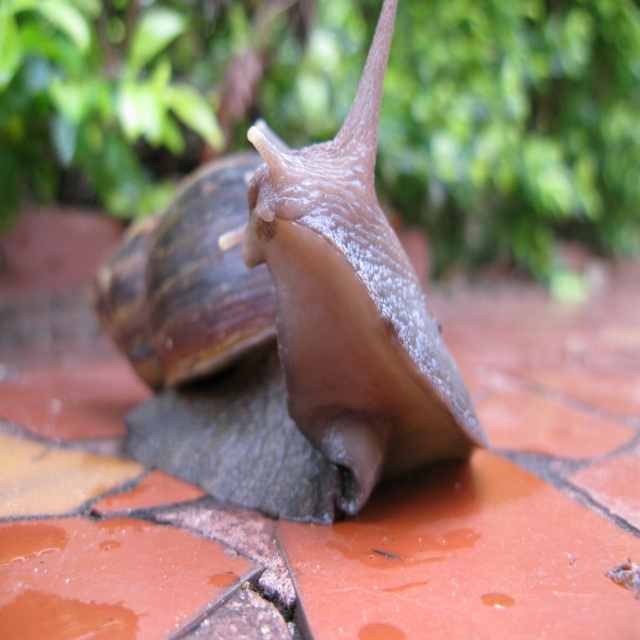Snail: (82, 0, 492, 530)
